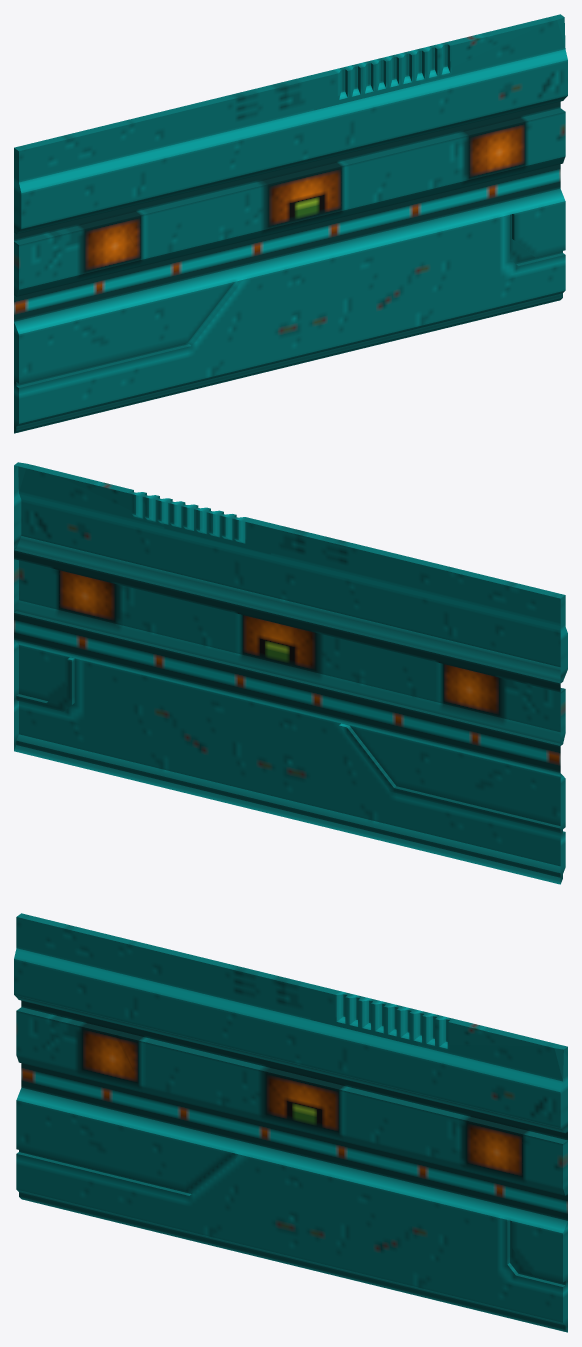
The model's file is med2_2_half_bottom.fbx.
3 views of the same model, one above another, from view 1: azimuth 30°, elevation 25°; view 2: azimuth 150°, elevation 25°; view 3: azimuth 330°, elevation 25° (orthographic).
Visible parts, largest first — view 1: med2_2_mesh; view 2: med2_2_mesh; view 3: med2_2_mesh.
Boxes of the visible parts, x1,y1,x2,y2 form: med2_2_mesh: (14,14,567,433); med2_2_mesh: (14,462,567,884); med2_2_mesh: (14,913,567,1332).
Size of the model in its own units: 256 by 128 by 6.
